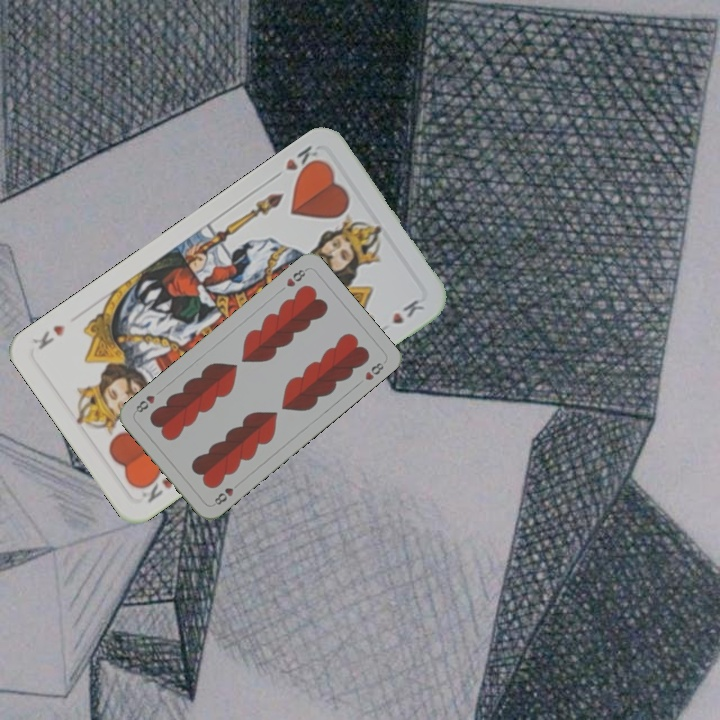H8: (210, 478, 243, 508), (282, 264, 310, 289)
HK: (268, 141, 324, 183), (134, 468, 177, 506)
